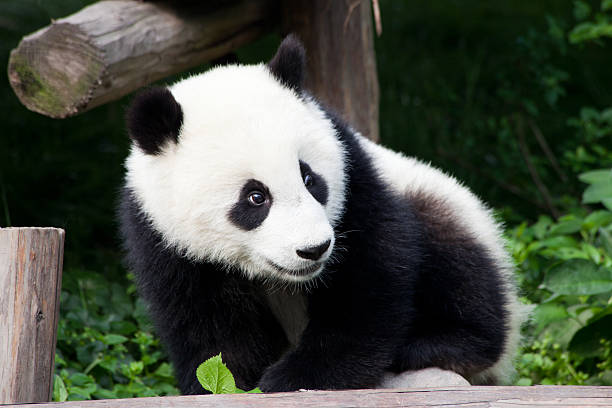panda: (79, 19, 411, 337)
